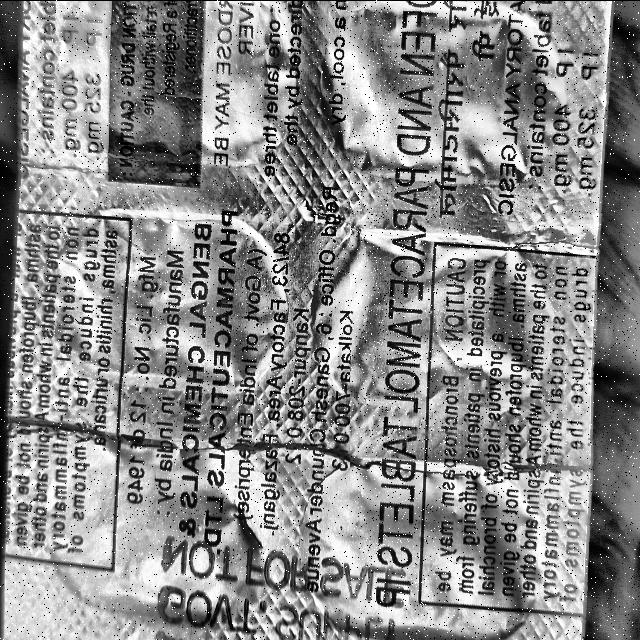IBUPROFEN AND PARACETAMOL TABLETS: (351, 0, 460, 640)
